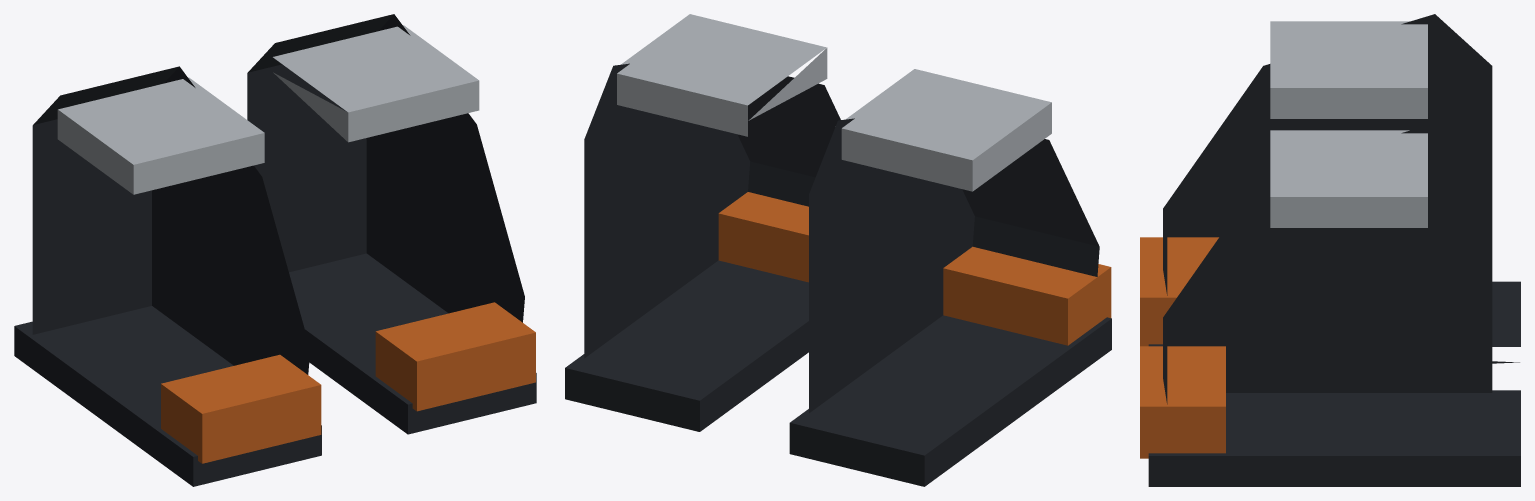
The model's file is boots.lod.glb.
3 renders of one model, left to right at view 1: azimuth 30°, elevation 25°; view 2: azimuth 150°, elevation 25°; view 3: azimuth 270°, elevation 25°, orthographic. The views are drawn at different scales.
Visible parts, largest first — view 1: m; view 2: m; view 3: m.
Part boxes in pixels (left/top/right/bottom): m: left=14, top=14, right=536, bottom=486; m: left=565, top=14, right=1111, bottom=486; m: left=1140, top=14, right=1520, bottom=486.
Bounding box in the file's own units: 0.22 × 0.176 × 0.2018.
